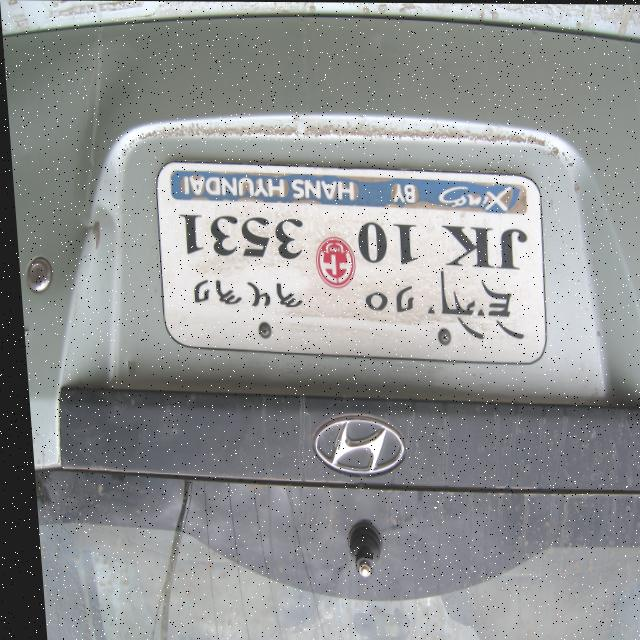plate: (146, 151, 550, 381)
